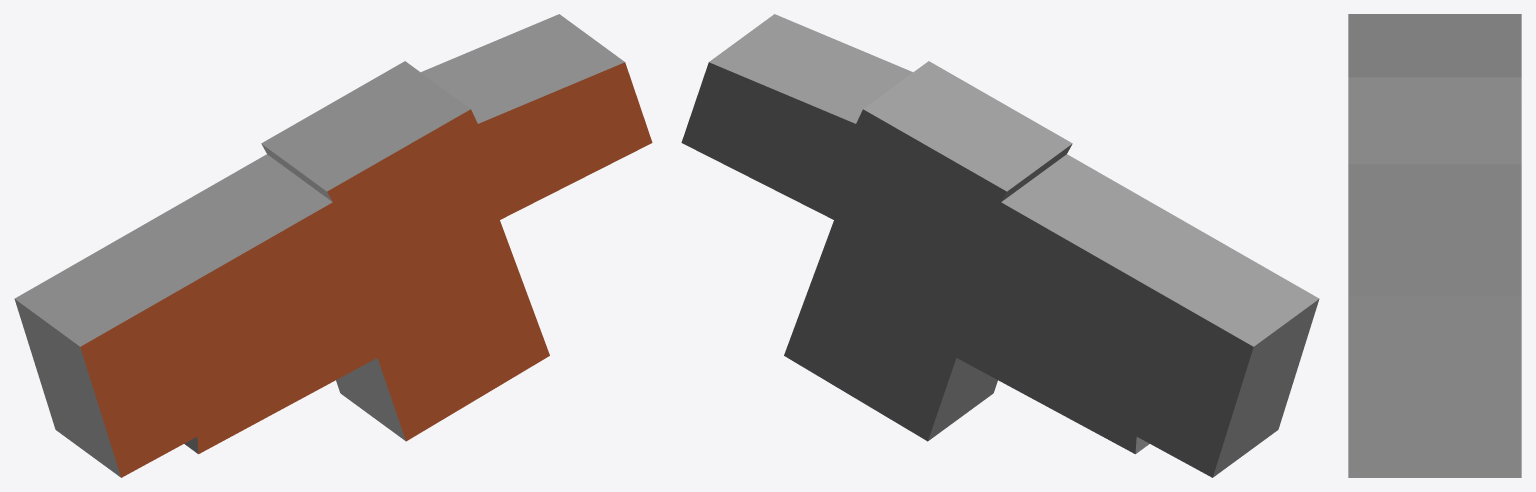
File: construction_1325_assumed_A_Casa_h6m.obj
The picture shows the model from 3 angles, left to right: view 1: azimuth 30°, elevation 25°; view 2: azimuth 150°, elevation 25°; view 3: azimuth 270°, elevation 25°; orthographic projection. The views are drawn at different scales.
Visible parts, largest first — view 1: construction_1325_assumed_A_Casa; view 2: construction_1325_assumed_A_Casa; view 3: construction_1325_assumed_A_Casa.
Part boxes in pixels (x1=…): construction_1325_assumed_A_Casa: x1=14, y1=14, x2=652, y2=477; construction_1325_assumed_A_Casa: x1=681, y1=14, x2=1319, y2=477; construction_1325_assumed_A_Casa: x1=1348, y1=14, x2=1521, y2=477.
Bounding box in the file's own units: 30.12 × 16.39 × 6.
